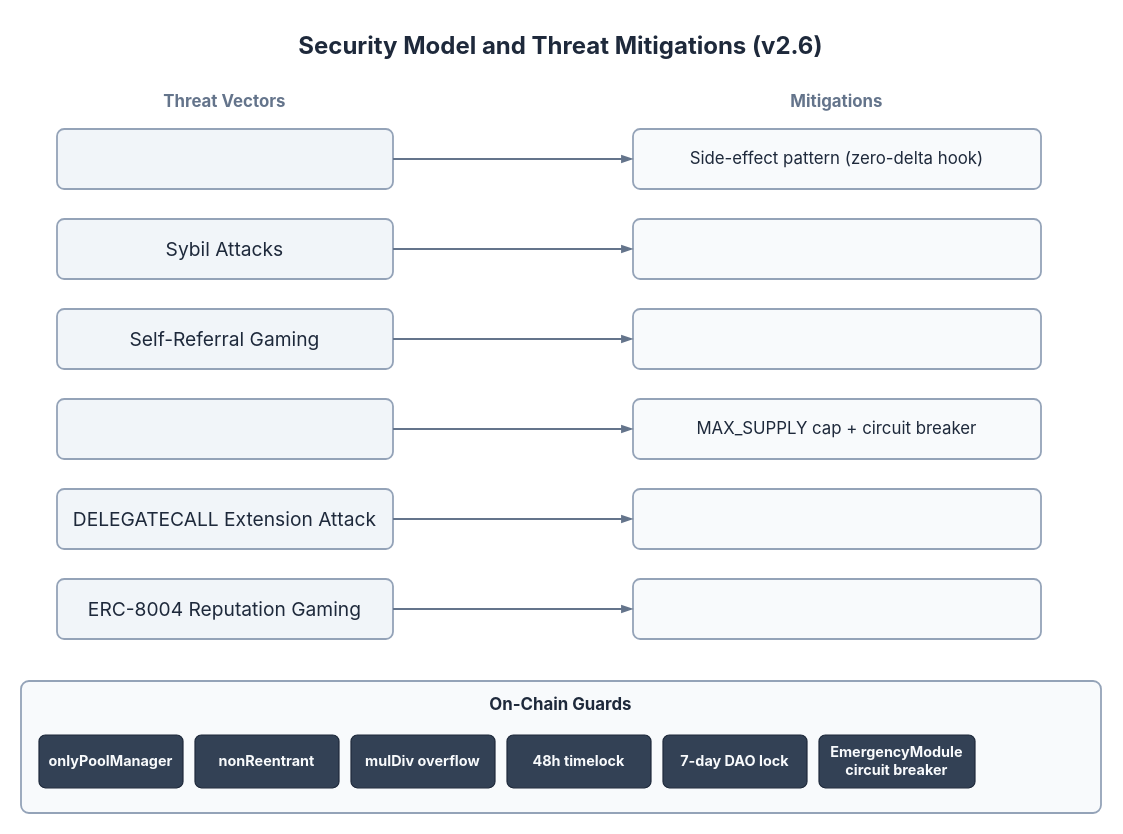
The diagram is 1123 pixels wide and 834 high, and some of its shapes have lost their labels. The shapes that lost their labels are listed below. From the top down, each one's centre as x and y in pixels, then its label:
At [224,158]: "Front-Running".
At [836,248]: "Minimum swap amount threshold".
At [836,338]: "tx.origin != referrer validation".
At [224,428]: "Rug Pull / Token Drain".
At [836,518]: "ERC-7201 namespaced storage + 38-slot __gap".
At [836,608]: "Soulbound FixerCredential (ERC-5192) + circuit breaker".
